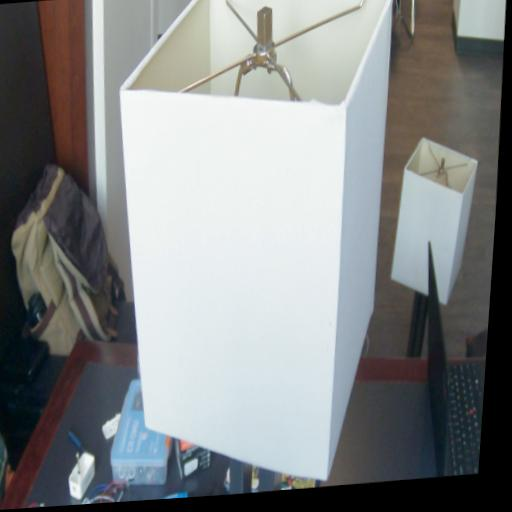lamp: (91, 0, 405, 504)
